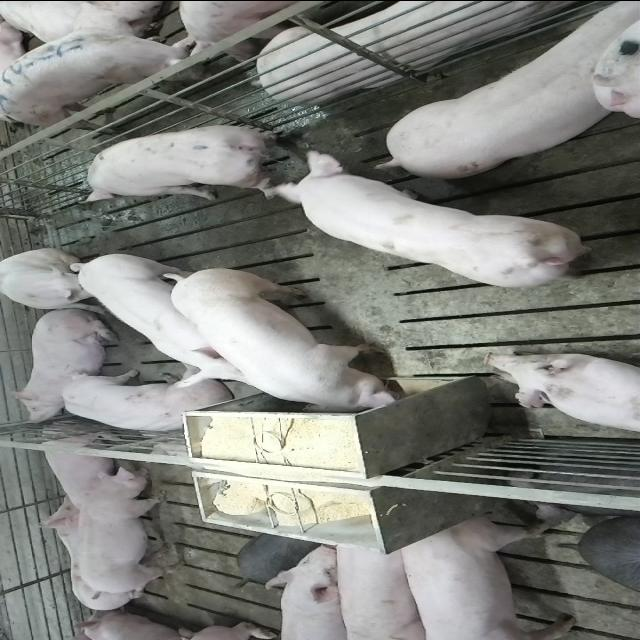Feeding: (168, 270, 404, 422)
Sitting: (59, 370, 229, 436), (1, 248, 113, 312)
Standing: (263, 153, 603, 294), (374, 5, 634, 182), (66, 248, 272, 384), (392, 514, 582, 638), (0, 24, 218, 123), (80, 123, 302, 203), (80, 461, 190, 592), (332, 533, 431, 637), (269, 540, 355, 640)
Sternal_lying: (168, 0, 578, 100), (484, 350, 640, 433), (5, 313, 117, 422), (35, 426, 126, 510)
